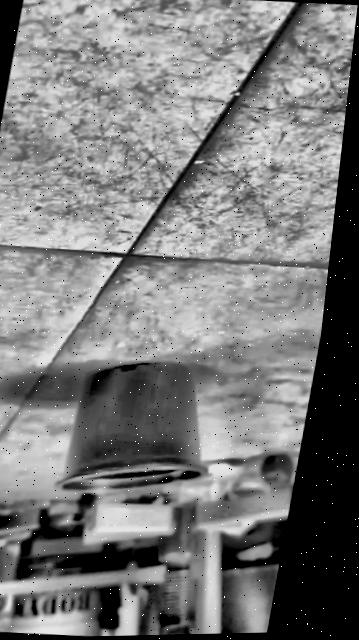pot: (53, 355, 228, 499)
